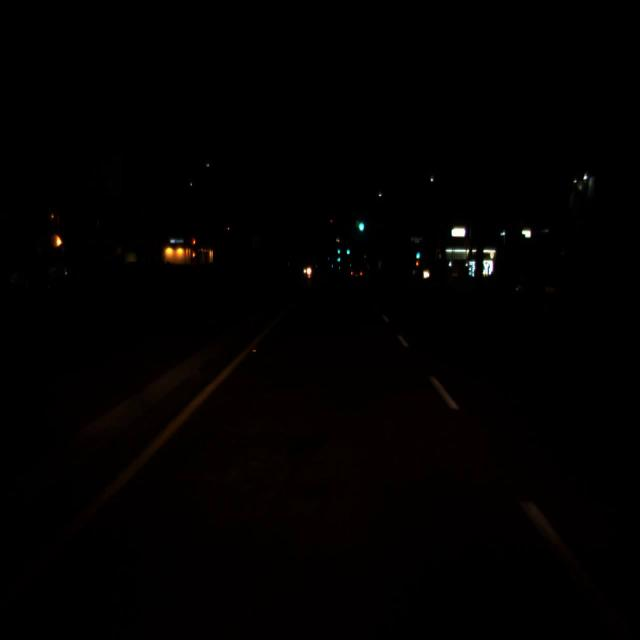go: (359, 223, 363, 229), (417, 253, 419, 256)
go traffic light: (356, 216, 364, 232), (416, 250, 420, 258)
